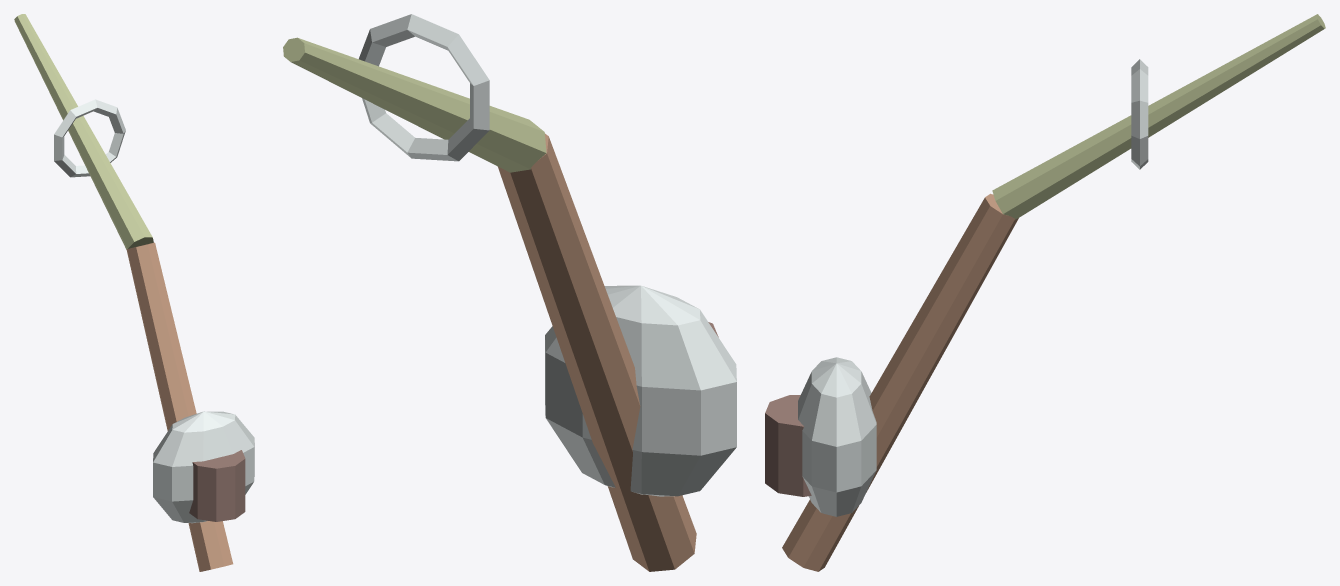
The model's file is cana_pescar.glb.
3 views of the same model, side by side, from view 1: azimuth 30°, elevation 25°; view 2: azimuth 150°, elevation 25°; view 3: azimuth 270°, elevation 25° (orthographic). The views are drawn at different scales.
Parts seen in each view (by area): view 1: cana_pescar; view 2: cana_pescar; view 3: cana_pescar.
Boxes of the visible parts, x1,y1,x2,y2 form: cana_pescar: (14, 14, 254, 571); cana_pescar: (283, 14, 736, 571); cana_pescar: (765, 14, 1325, 571).
Bounding box in the file's own units: 0.4185 × 1.65 × 1.52.
